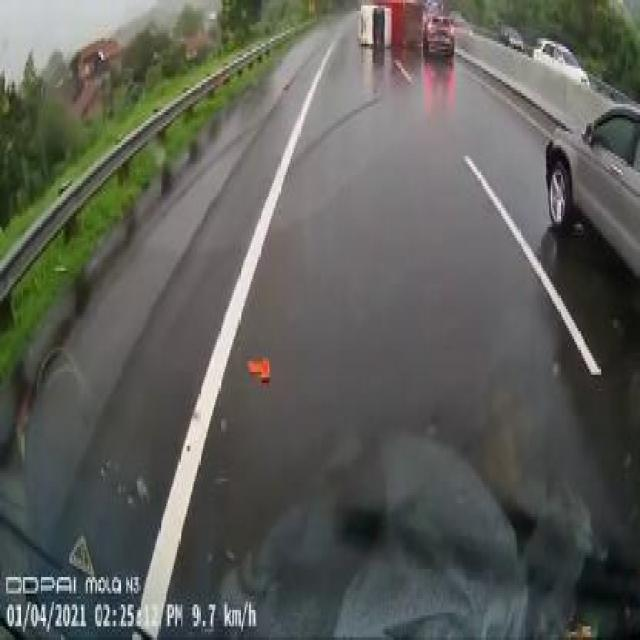accident: (355, 0, 430, 60)
